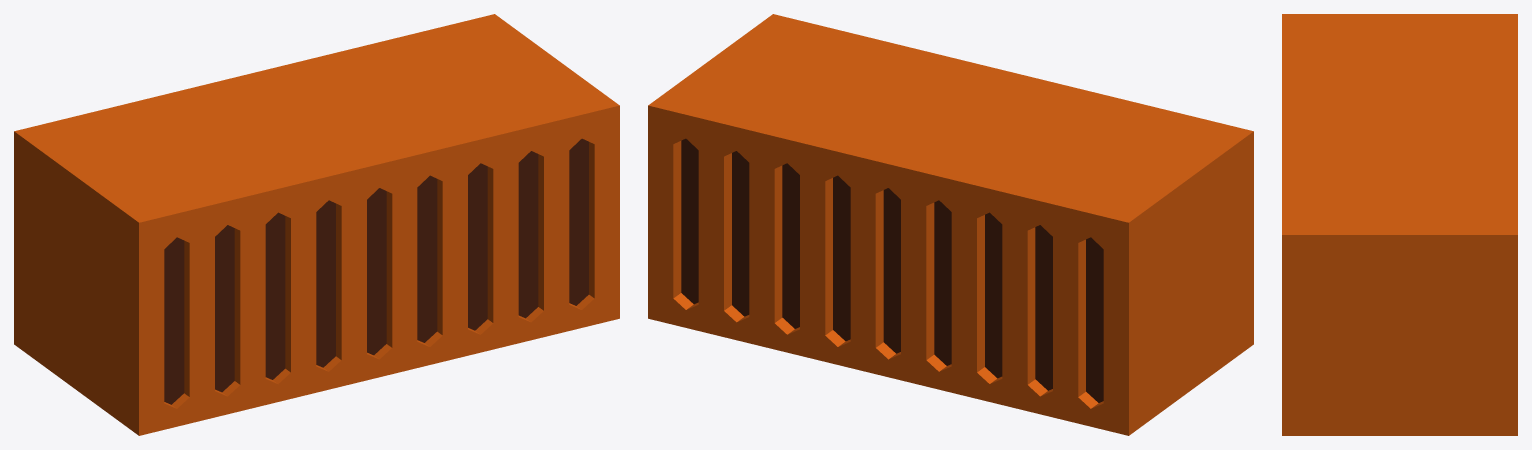
Rendered from container5.FBX.
3 renders of one model, left to right at view 1: azimuth 30°, elevation 25°; view 2: azimuth 150°, elevation 25°; view 3: azimuth 270°, elevation 25°, orthographic. The views are drawn at different scales.
Parts seen in each view (by area): view 1: Box001; view 2: Box001; view 3: Box001.
Boxes of the visible parts, x1,y1,x2,y2 form: Box001: (14,14,619,435); Box001: (648,14,1253,435); Box001: (1282,14,1517,435).
Bounding box in the file's own units: 114 × 48.16 × 51.2.
